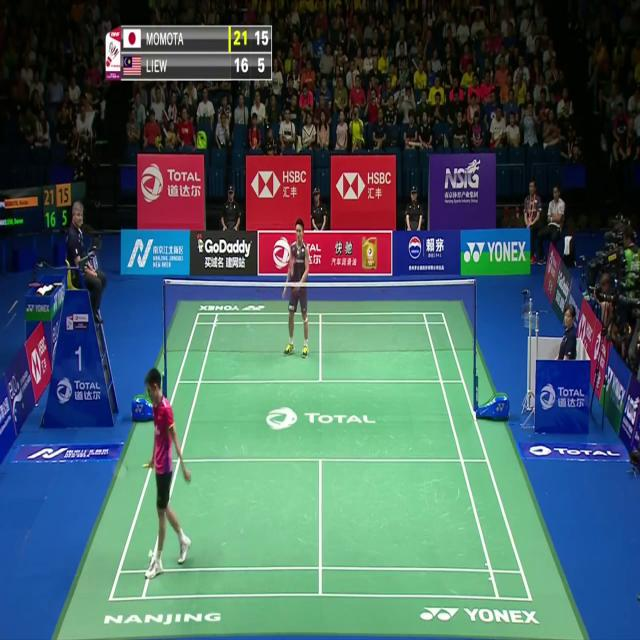Shuttlecock: (148, 549, 155, 560)
